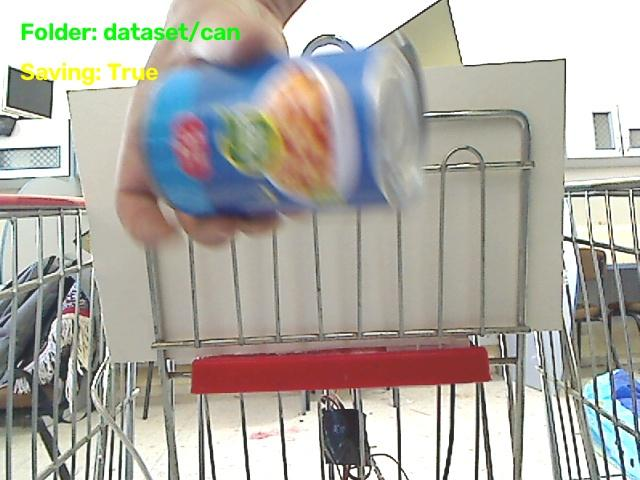can: (144, 42, 422, 216)
